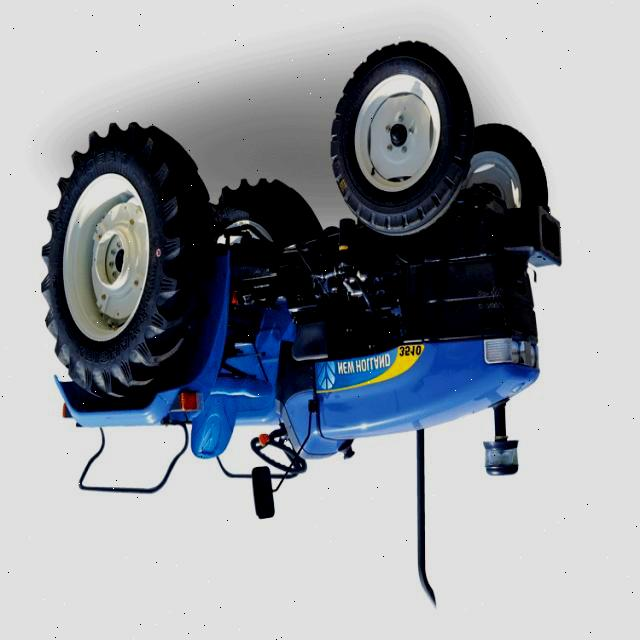Tratores - v5 YOLO V8L 2024-11-13: (34, 50, 570, 616)
